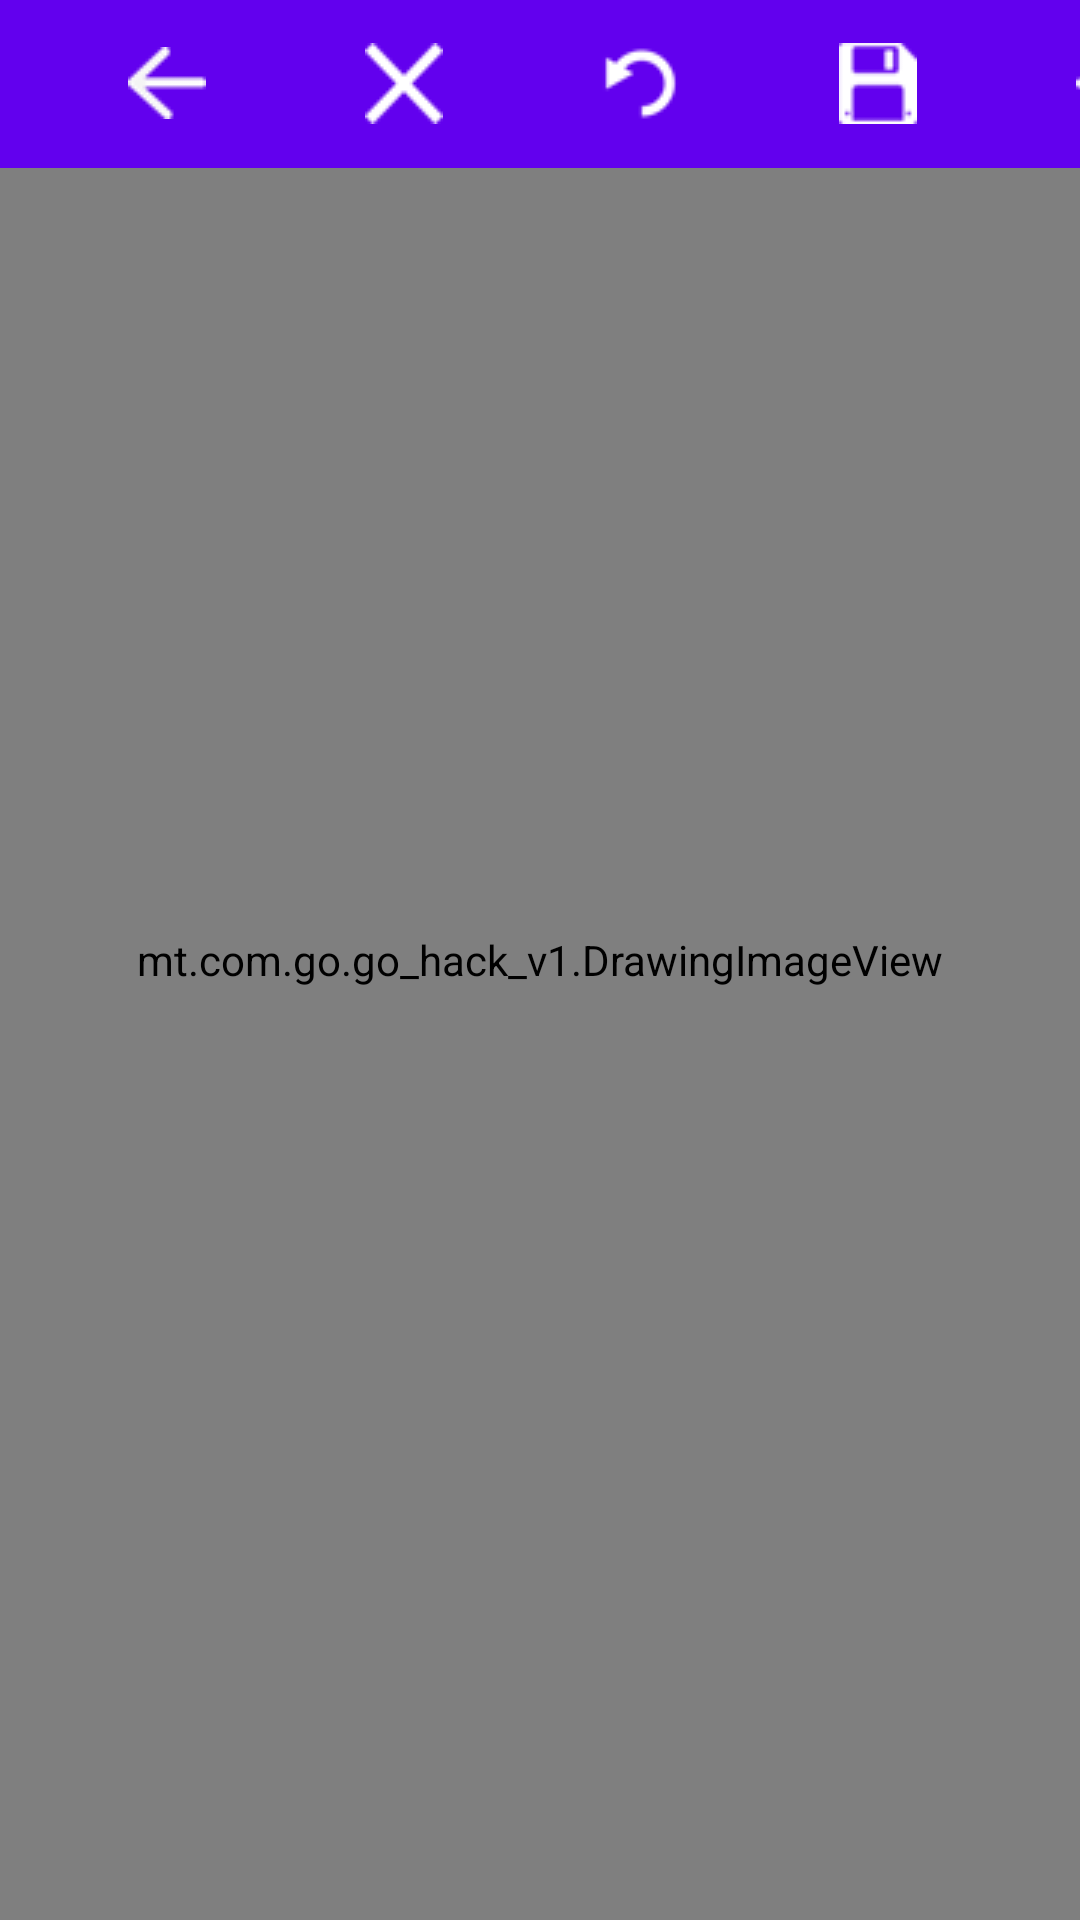

Where to tap for icons on this 1080×1920 app screen, as [x,y]:
back: [167,83]
clear: [404,83]
save: [878,83]
undo: [640,83]
